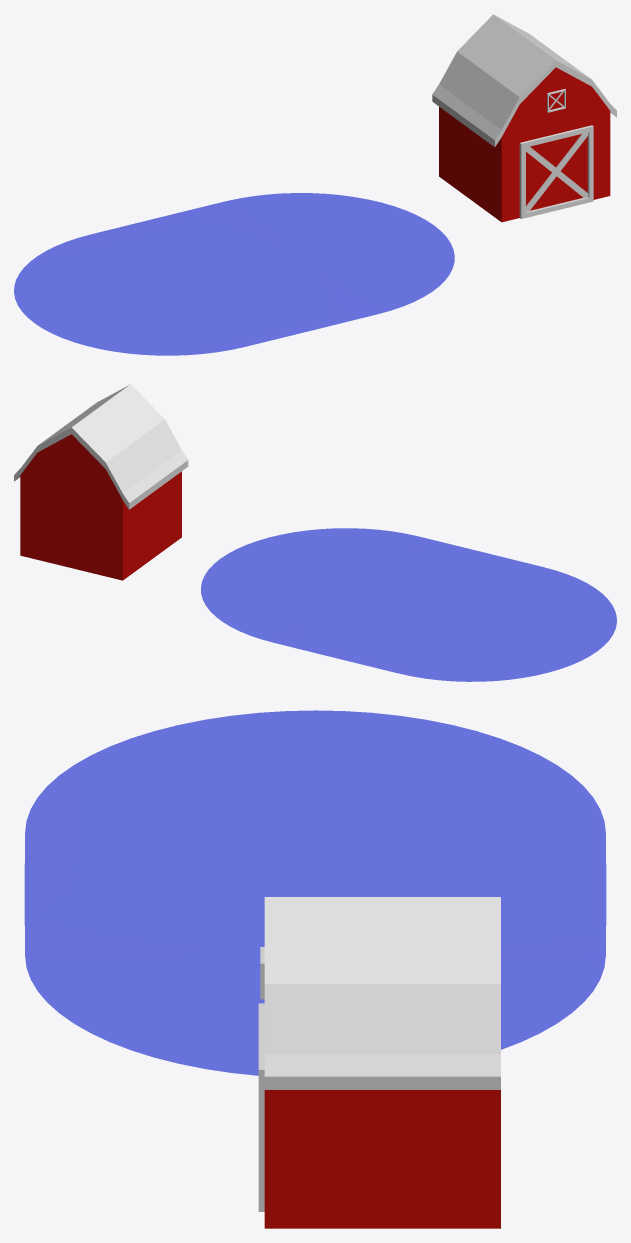
Rendered from barn.gltf.
3 views of the same model, one above another, from view 1: azimuth 30°, elevation 25°; view 2: azimuth 150°, elevation 25°; view 3: azimuth 270°, elevation 25° (orthographic). The views are drawn at different scales.
Visible parts, largest first — view 1: Cylinder, Cube; view 2: Cylinder, Cube; view 3: Cylinder, Cube.
Part boxes in pixels (box(x1,y1,x2,y2)): Cylinder: box(14, 193, 454, 355); Cube: box(432, 14, 616, 222); Cylinder: box(201, 528, 616, 681); Cube: box(14, 384, 188, 580); Cylinder: box(24, 710, 606, 1075); Cube: box(258, 897, 500, 1228).
Bounding box in the file's own units: 20.97 × 5.25 × 9.83.
